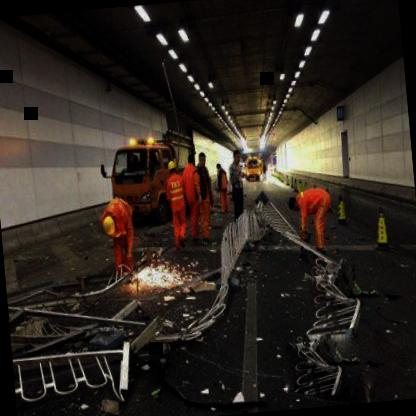head: (288, 194, 303, 212), (196, 149, 210, 168), (231, 146, 242, 164)
helmet: (102, 210, 118, 240), (166, 156, 178, 178)
